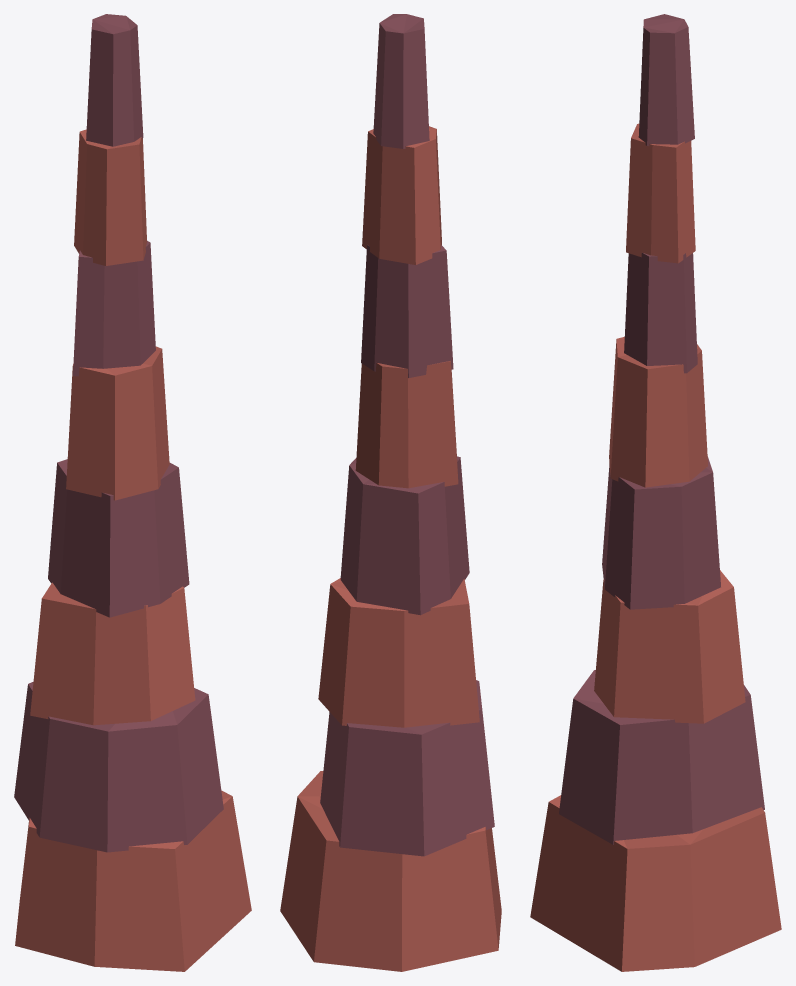
Rendered from Rock_Spire_A.fbx.
3 views of the same model, side by side, from view 1: azimuth 30°, elevation 25°; view 2: azimuth 150°, elevation 25°; view 3: azimuth 270°, elevation 25° (orthographic).
Parts seen in each view (by area): view 1: Rock_Spire_A; view 2: Rock_Spire_A; view 3: Rock_Spire_A.
Boxes of the visible parts, bbox=[...] form: Rock_Spire_A: bbox=[14, 14, 251, 971]; Rock_Spire_A: bbox=[280, 14, 501, 971]; Rock_Spire_A: bbox=[530, 14, 781, 971].
Bounding box in the file's own units: 8.96 × 36 × 9.21.
